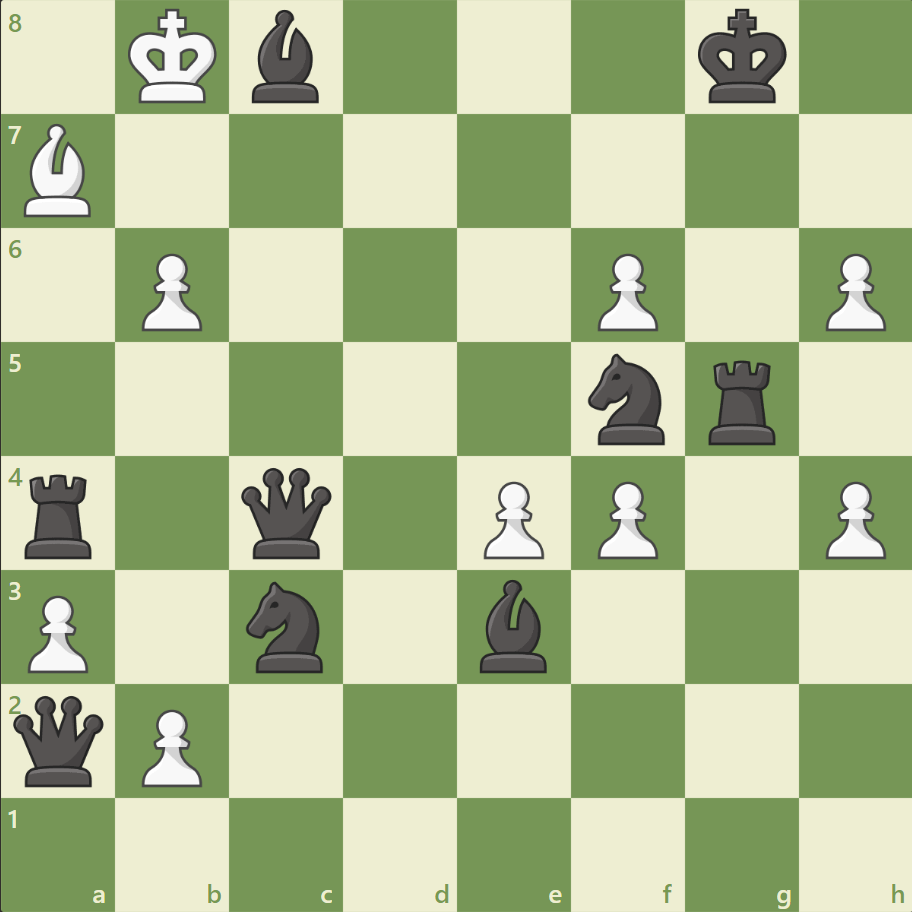B: (17, 120, 101, 222)
K: (124, 4, 224, 112)
P: (133, 246, 208, 337), (474, 473, 549, 564), (20, 586, 95, 677), (133, 700, 208, 791), (588, 246, 662, 337), (815, 246, 889, 337), (588, 473, 662, 564), (815, 473, 889, 564)
b: (244, 6, 328, 109), (471, 574, 555, 676)
k: (692, 4, 792, 112)
n: (579, 348, 676, 450), (238, 575, 335, 677)
q: (237, 463, 336, 562), (10, 690, 109, 789)
r: (700, 352, 783, 449), (19, 466, 102, 563)
